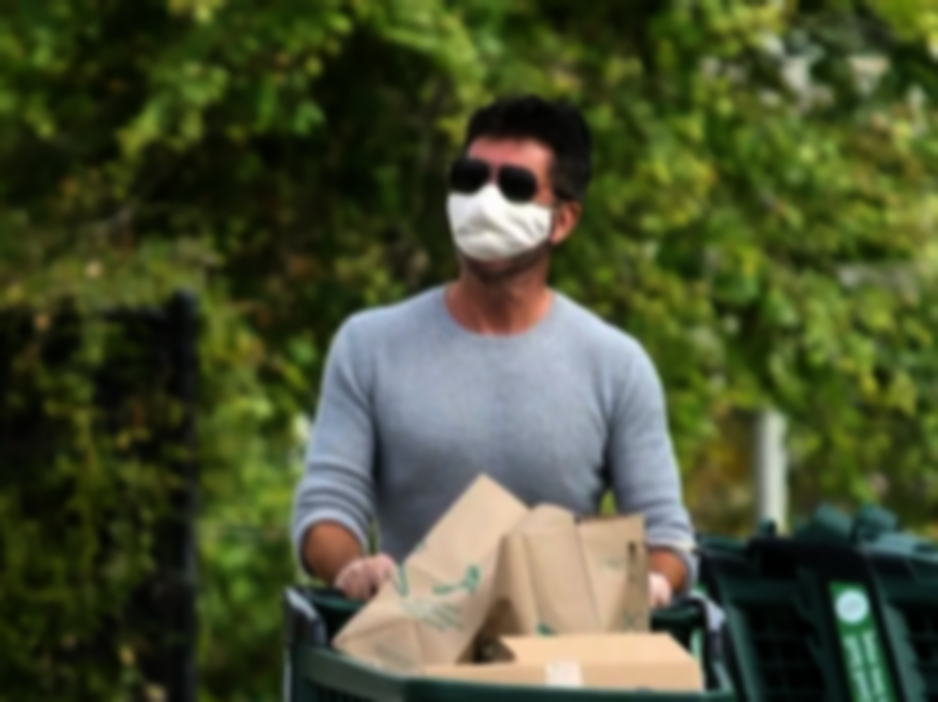mask_weared_incorrect: (440, 98, 594, 280)
